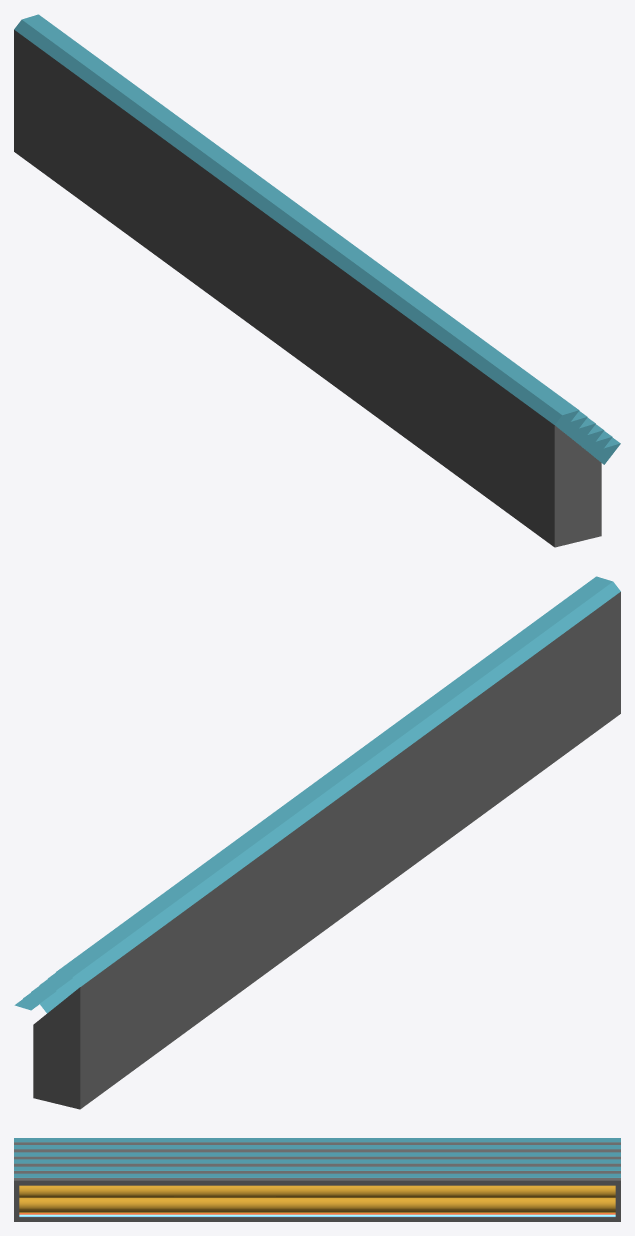
The model's file is molding-top-1.fbx.
The picture shows the model from 3 angles, top to bottom: view 1: azimuth 30°, elevation 25°; view 2: azimuth 150°, elevation 25°; view 3: azimuth 270°, elevation 25°; orthographic projection. The views are drawn at different scales.
Visible parts, largest first — view 1: molding[Top]-D.001, Vents - C[angle].002; view 2: molding[Top]-D.001, Vents - C[angle].002; view 3: molding[Top]-D.001, Vents - C[angle].002, pipes-D.001, wires-A.001.
Part boxes in pixels (box(x1,y1,x2,y2)): molding[Top]-D.001: box(14, 30, 601, 547); Vents - C[angle].002: box(14, 14, 620, 464); molding[Top]-D.001: box(33, 592, 620, 1109); Vents - C[angle].002: box(14, 576, 620, 1013); molding[Top]-D.001: box(14, 1142, 620, 1221); Vents - C[angle].002: box(14, 1138, 620, 1177); pipes-D.001: box(19, 1185, 615, 1211); wires-A.001: box(19, 1211, 615, 1216).
Bounding box in the file's own units: 0.2833 × 0.5367 × 4.
